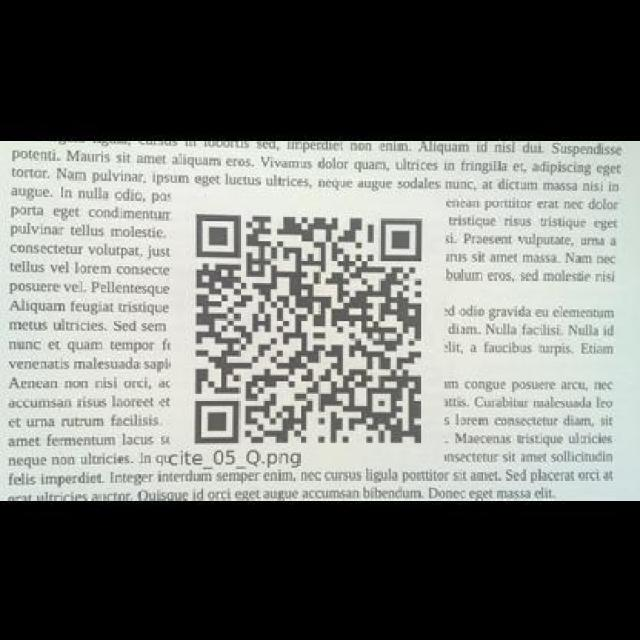QRCode: (188, 204, 428, 449)
